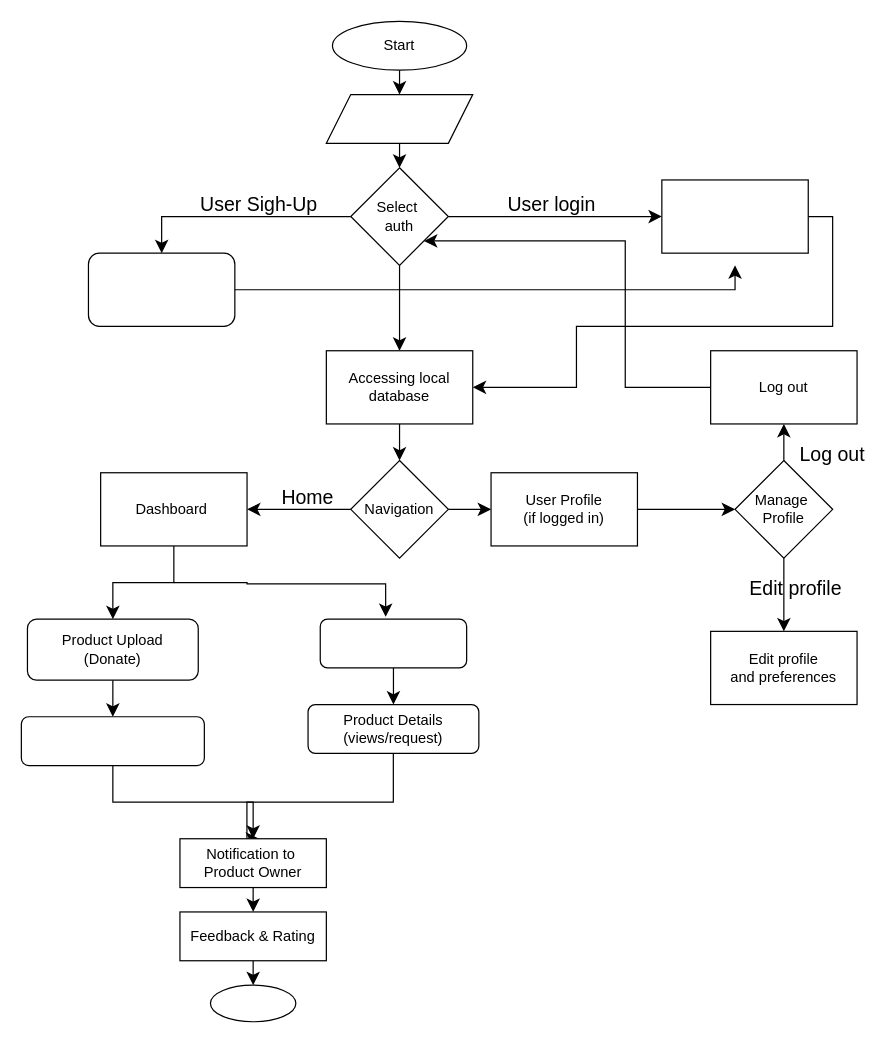
Image size: 891x1043. Some labels were removed from this diagram. Each missing label, with the centre of its shape:
Browse Products (search, filter): point 393,643
Create new user: point 161,289
Data synchronization: point 734,216
End: point 252,1003
Enter the app: point 399,118
Manage Products: point 112,741
